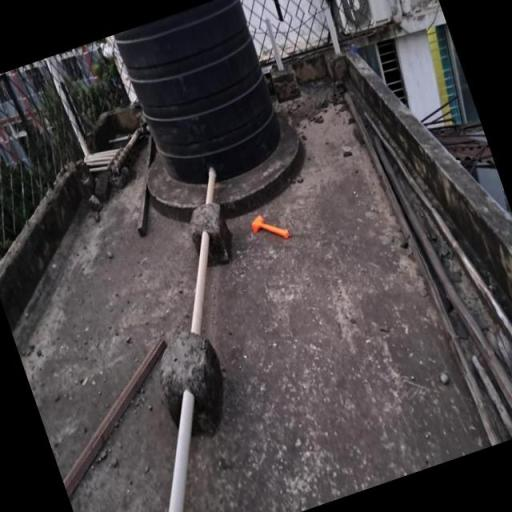mallet: (248, 207, 291, 248)
